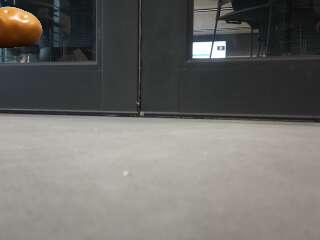Potato: (0, 7, 43, 48)
